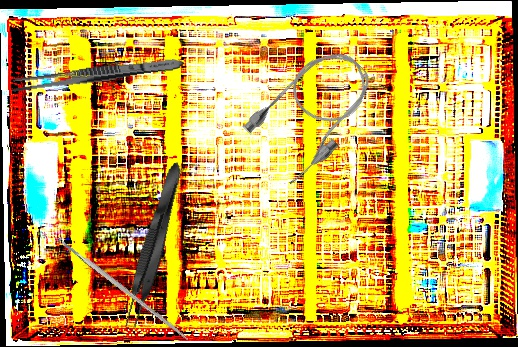Cannula: (236, 35, 390, 191)
Dressing Forceps: (9, 53, 186, 96)
Scalpel Handle: (60, 238, 191, 343)
Tissue Forceps: (118, 159, 190, 331)
